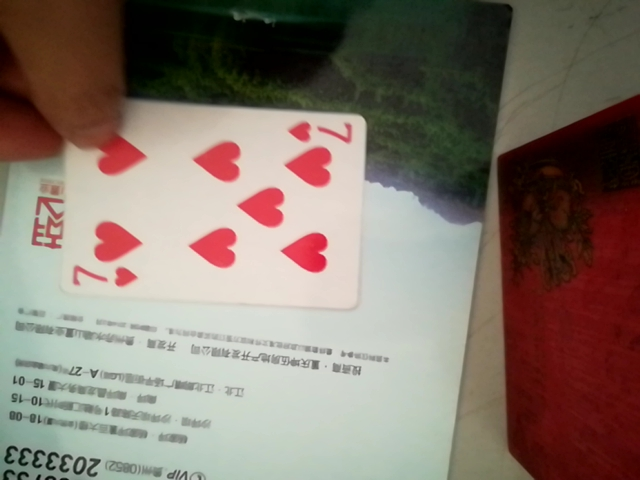hx 7: (37, 103, 365, 302)
